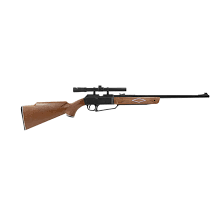gun: (19, 84, 210, 131)
